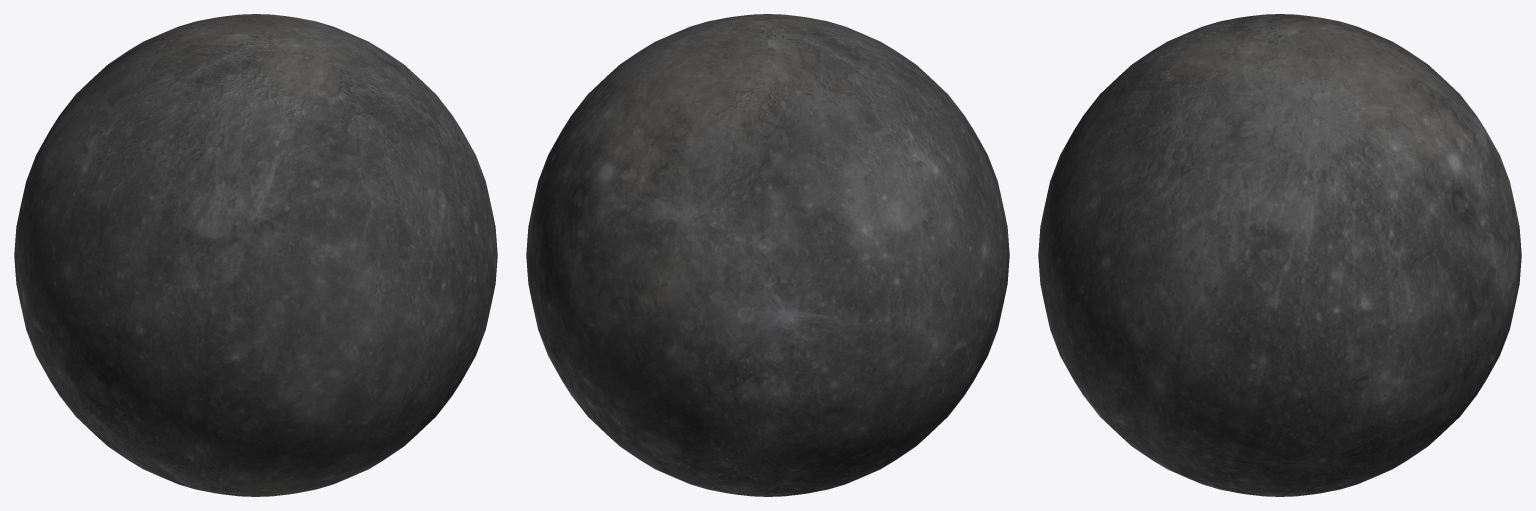
File: mercury.obj
3 views of the same model, side by side, from view 1: azimuth 30°, elevation 25°; view 2: azimuth 150°, elevation 25°; view 3: azimuth 270°, elevation 25° (orthographic).
Parts seen in each view (by area): view 1: mercury_Sphere.007; view 2: mercury_Sphere.007; view 3: mercury_Sphere.007.
Boxes of the visible parts, x1,y1,x2,y2 form: mercury_Sphere.007: [14, 14, 497, 496]; mercury_Sphere.007: [526, 14, 1009, 496]; mercury_Sphere.007: [1038, 14, 1521, 496].
Size of the model in its own units: 0.1463 by 0.1463 by 0.1463.
1 material, 1 textured.
